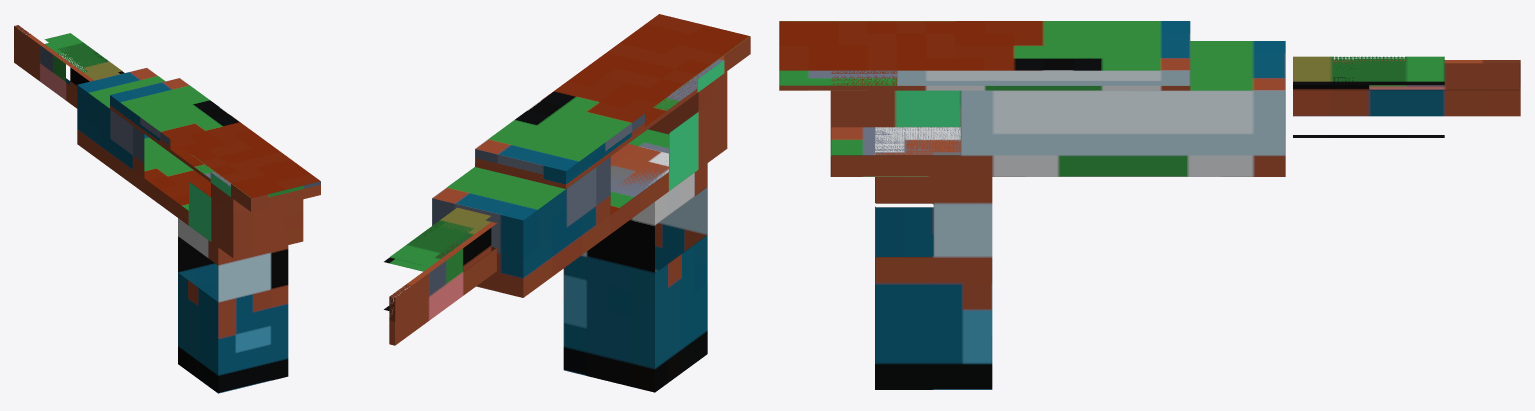
The model's file is Pistol2R.obj.
3 renders of one model, left to right at view 1: azimuth 30°, elevation 25°; view 2: azimuth 150°, elevation 25°; view 3: azimuth 270°, elevation 25°, orthographic. The views are drawn at different scales.
Parts seen in each view (by area): view 1: cube; view 2: cube; view 3: cube.
Boxes of the visible parts, bbox=[...] form: cube: bbox=[14, 25, 320, 393]; cube: bbox=[384, 14, 750, 392]; cube: bbox=[779, 21, 1520, 389].
Size of the model in its own units: 2 by 6.5 by 12.62.
